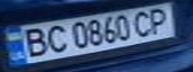0: (112, 12, 136, 42), (69, 19, 90, 49)
6: (100, 15, 121, 44)
8: (84, 16, 106, 47)
B: (15, 25, 51, 58)
C: (39, 22, 72, 54), (130, 8, 160, 38)
P: (145, 6, 175, 35)
